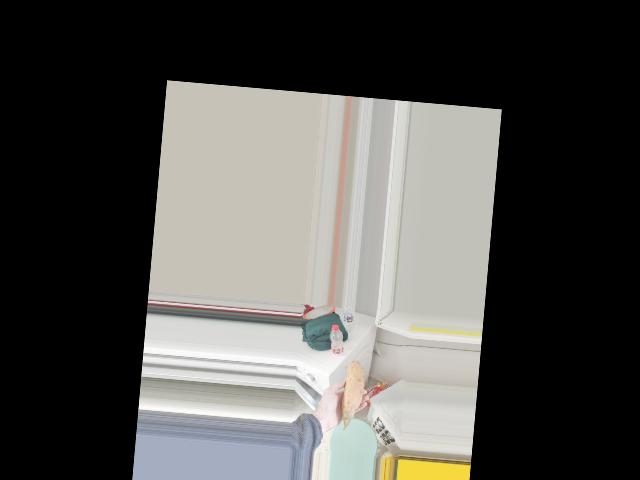sweet_potato: (338, 359, 365, 428)
